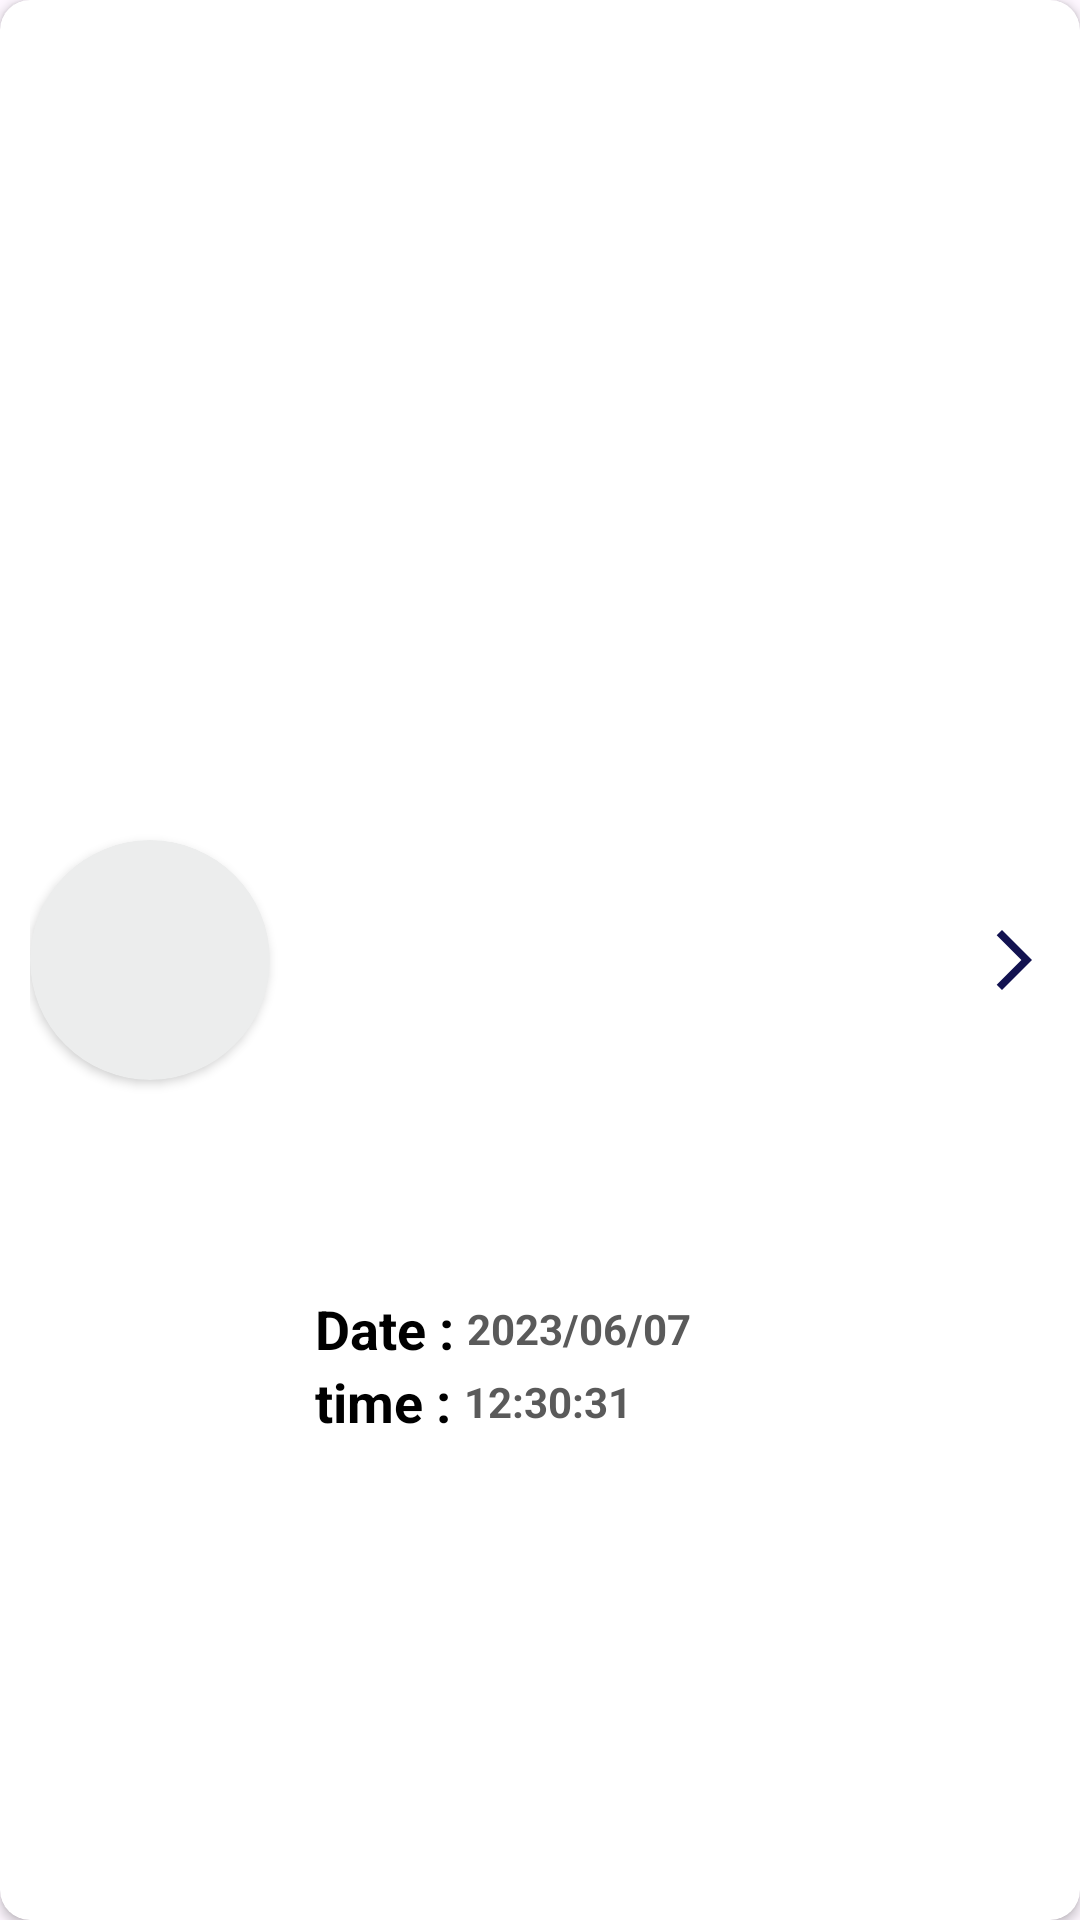

Where to tap for icons on this 1080px x 1920px app screen, as (x=x, y=y):
arrow forward: (x=1014, y=960)
